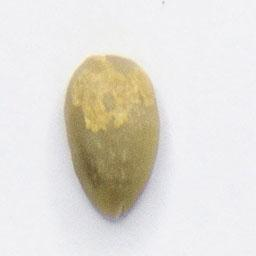longberry: (60, 48, 164, 225)
